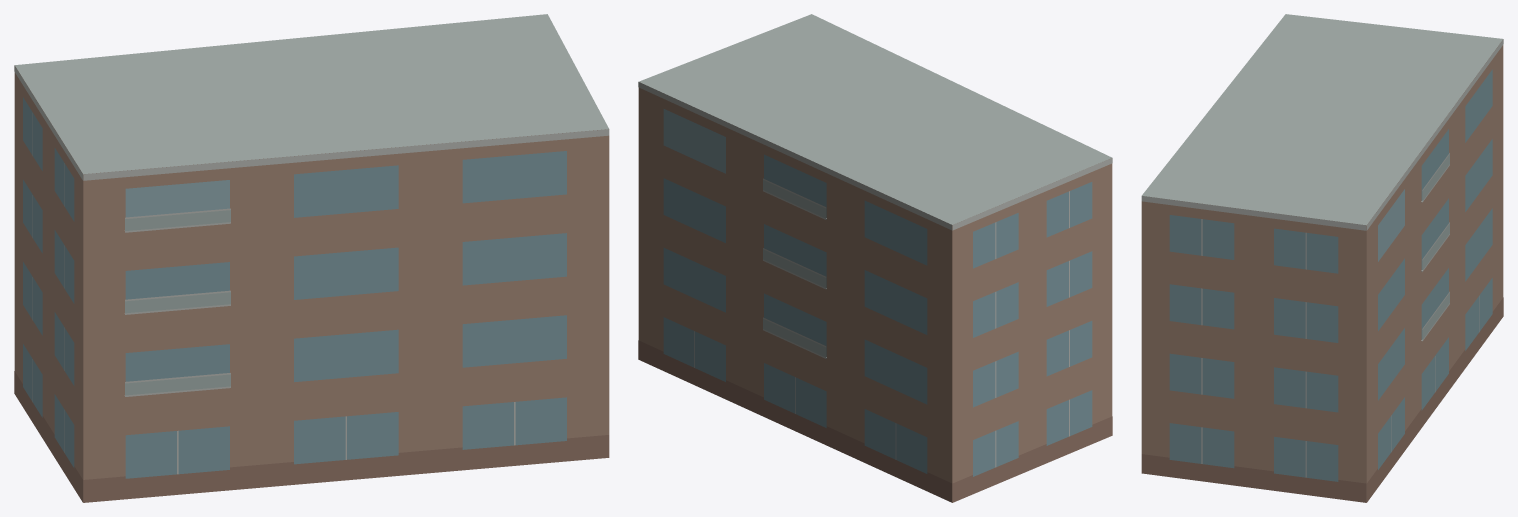
The model's file is survey-upis-32971261.glb.
The picture shows the model from 3 angles, left to right: view 1: azimuth 30°, elevation 25°; view 2: azimuth 150°, elevation 25°; view 3: azimuth 270°, elevation 25°; orthographic projection. The views are drawn at different scales.
Parts seen in each view (by area): view 1: survey-upis-32971261.tmp; view 2: survey-upis-32971261.tmp; view 3: survey-upis-32971261.tmp.
Boxes of the visible parts, bbox=[...] form: survey-upis-32971261.tmp: bbox=[14, 14, 609, 502]; survey-upis-32971261.tmp: bbox=[638, 14, 1112, 502]; survey-upis-32971261.tmp: bbox=[1141, 14, 1503, 502].
Bounding box in the file's own units: 19.78 × 12.11 × 14.32.
